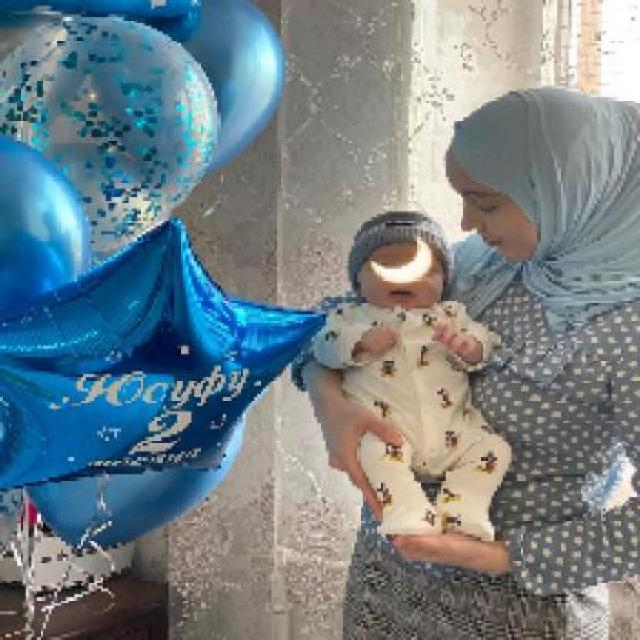child: (313, 209, 513, 542)
